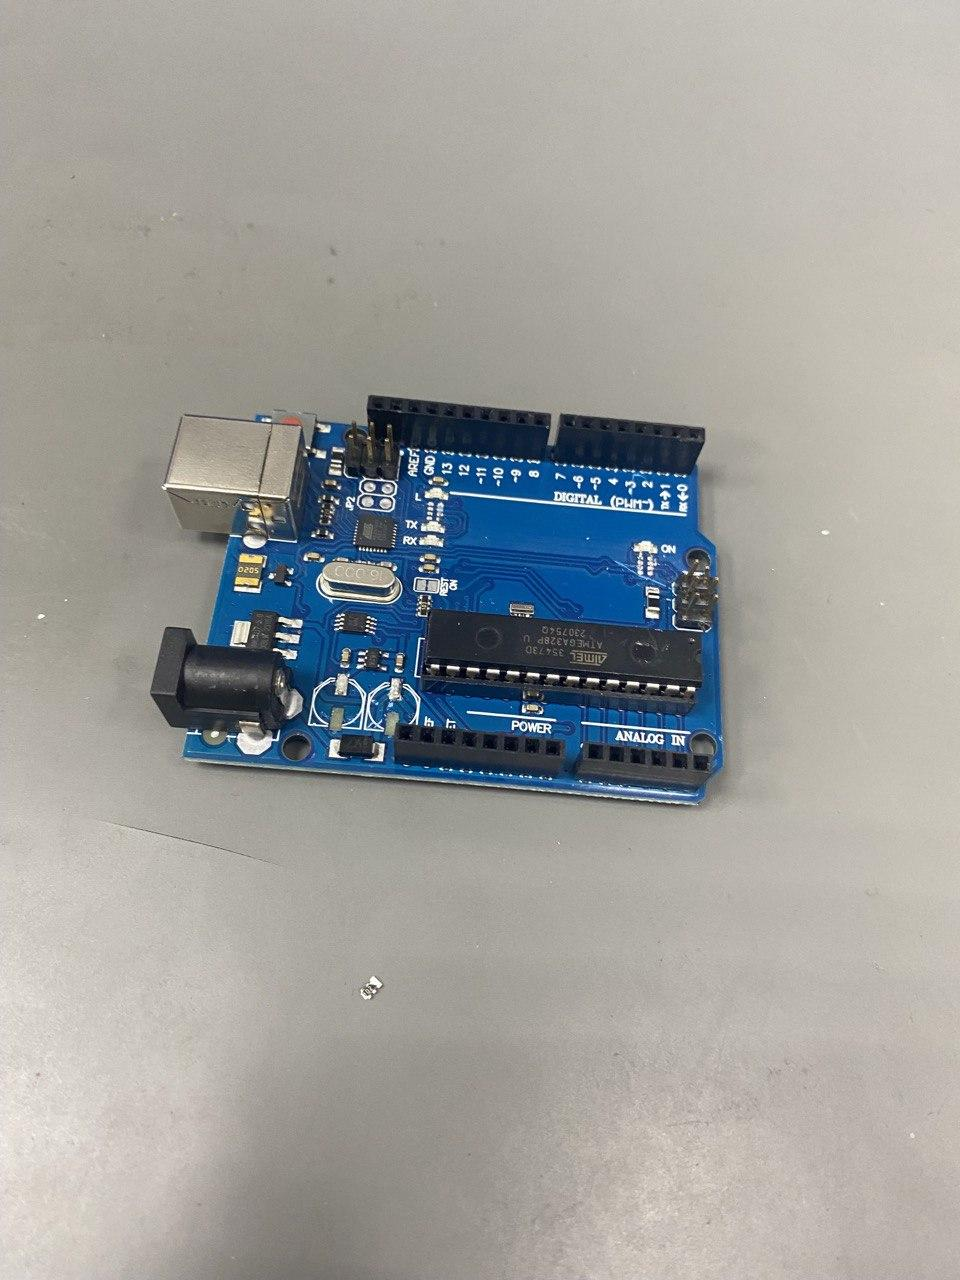ATmega328 chip: (422, 609, 702, 716)
Arduino board: (149, 395, 723, 806)
USB: (162, 414, 312, 542)
pins: (366, 393, 551, 461), (394, 722, 566, 778), (552, 414, 706, 475), (573, 741, 712, 794)
resistor: (318, 503, 334, 526), (416, 595, 431, 617)
